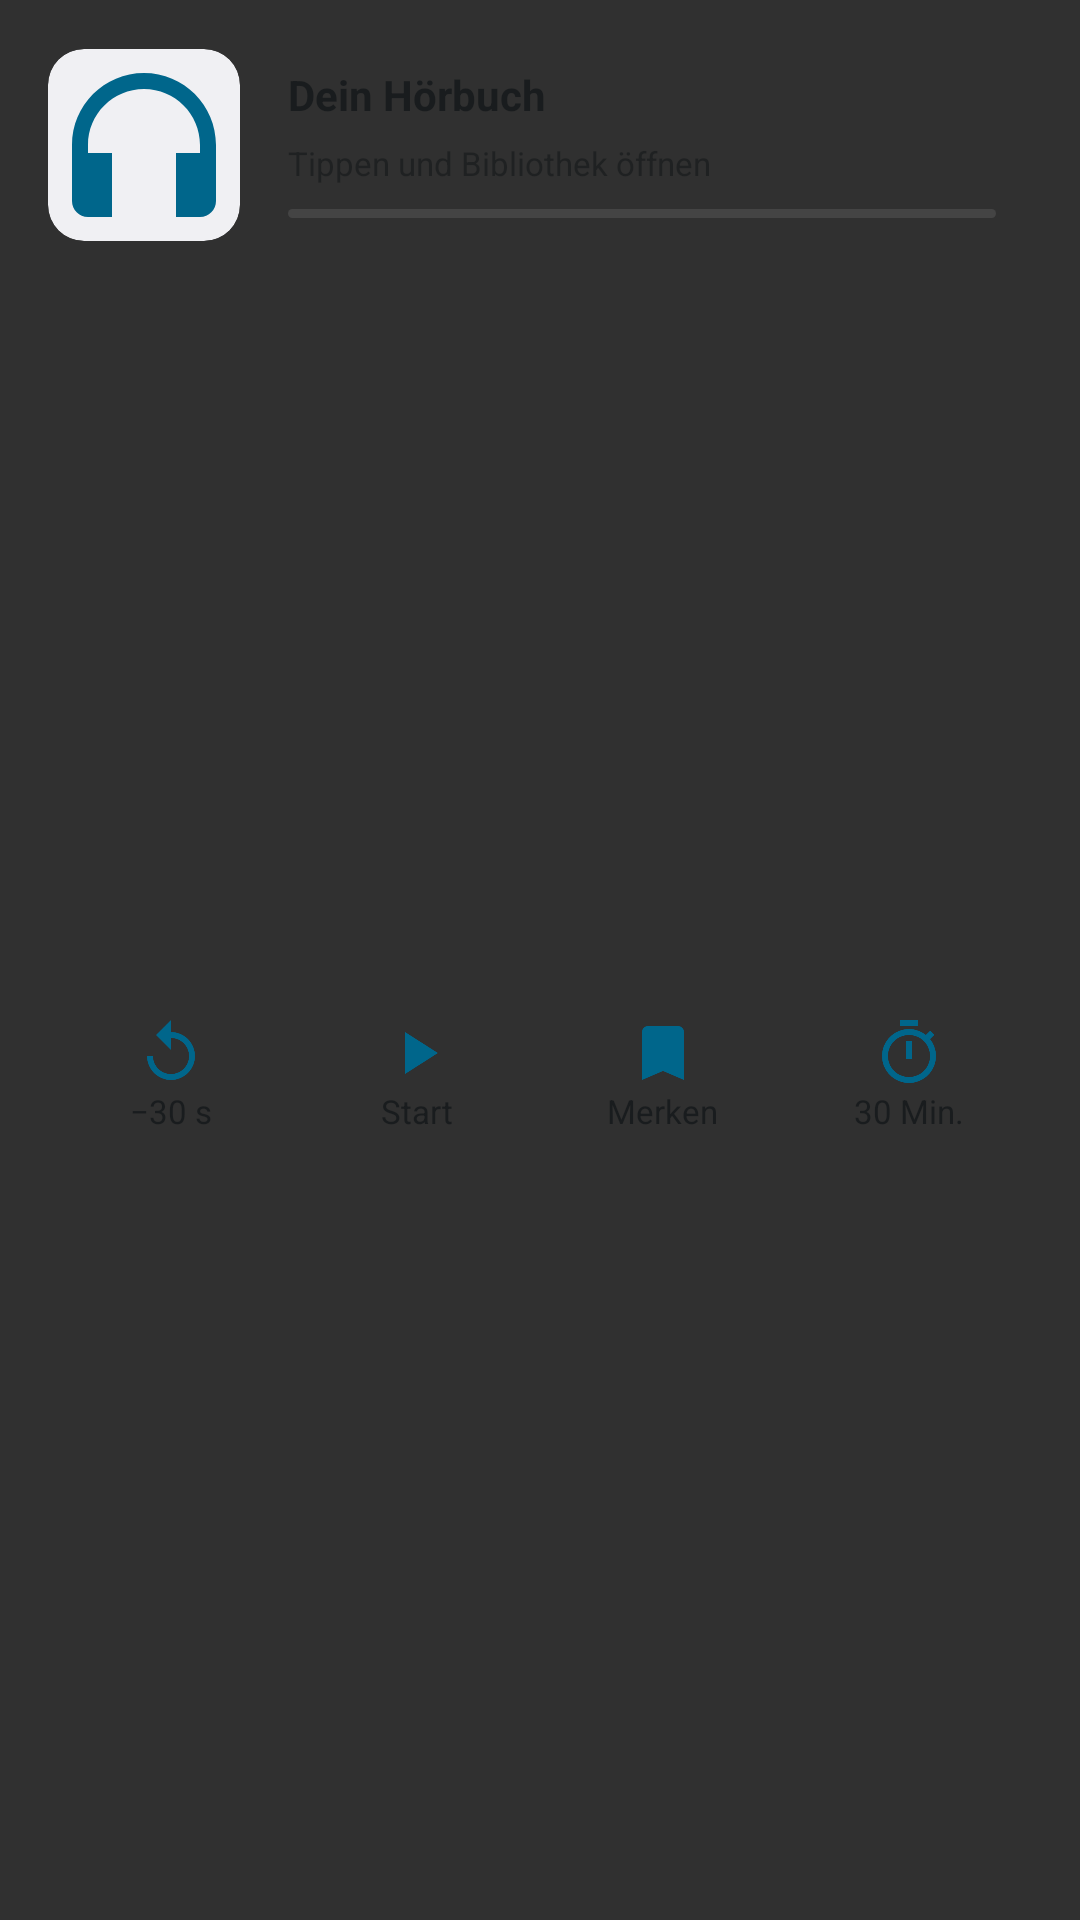

Icons on this 1080 × 1920 Android screen, each with the point to tap as (x,y):
widget back: (171,1050)
widget headphones: (144,145)
widget play: (421,1053)
widget timer: (909,1051)
